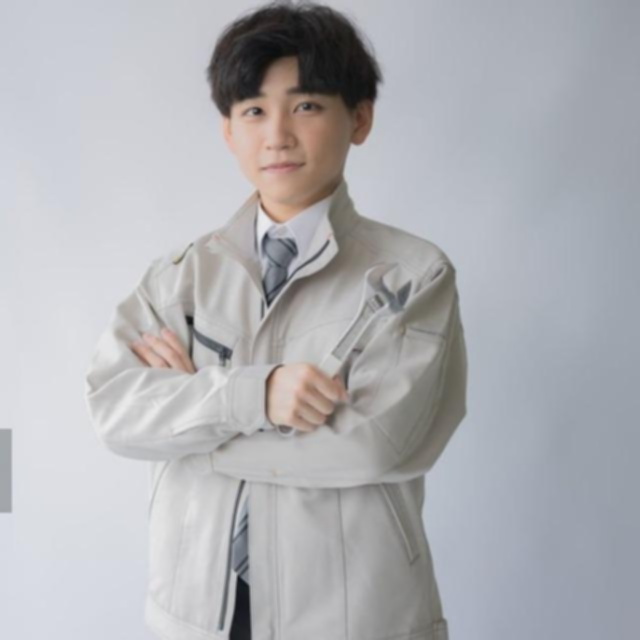Sin_Casco_Mascarrilla: (209, 7, 382, 195)
Sin_Chaleco: (154, 196, 440, 601)
